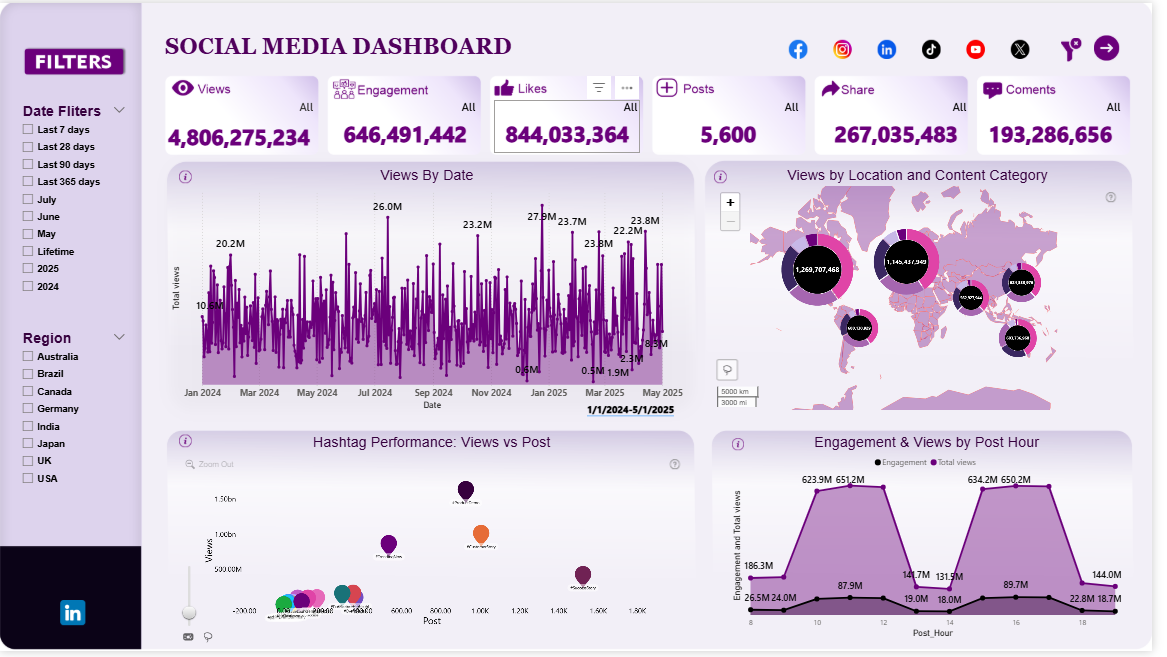

What the dashboard file says about the page in this screenshot:
{"tool":"powerbi","page":{"name":"Page 1","canvas":[1920,1080],"ordinal":0},"visuals":[{"type":"advancedSlicerVisual","fields":{"Values":["Sheet1.logo"]},"box":[1296.4,42.7,442.7,68.2],"z":0},{"type":"areaChart","title":"Views By Date","fields":{"Category":["Sheet1.Post_Date"],"Y":["Dax.Total views"]},"box":[280,273,863,410],"z":1000},{"type":"card","fields":{"Values":["Dax.Total views"]},"box":[270,161.4,257.1,98.6],"z":2000},{"type":"card","fields":{"Values":["Dax.Engagement"]},"box":[552.9,161.4,244.3,88.6],"z":3000},{"type":"card","fields":{"Values":["Dax.Total Likes"]},"box":[822.9,161.4,244.3,88.6],"z":4000},{"type":"card","fields":{"Values":["Dax.Total Post"]},"box":[1091.4,161.4,244.3,88.6],"z":5000},{"type":"card","fields":{"Values":["Dax.Total Shares"]},"box":[1371.4,161.4,244.3,88.6],"z":6000},{"type":"card","fields":{"Values":["Dax.Total Comment"]},"box":[1628.9,161.1,244.4,88.9],"z":7000},{"type":"slicer","fields":{"Values":["Date Filter.Filters"]},"box":[24.3,161.4,195.7,342.9],"z":8000},{"type":"textbox","box":[972.9,661.4,174.3,32.9],"z":9000},{"type":"ZoomChartsDrillDownMapPro6AFEEB10499543F282BD06EF315D5EAA","title":"Views by Location and Content Category","fields":{"value":["Dax.Total views"],"name":["Sheet1.Region"],"latitude":["Sheet1.Latitude"],"longitude":["Sheet1.Longitude"],"category":["Sheet1.Content_Category"],"label":["Min(Sheet1.Content_Category)"]},"box":[1185,273.3,688.3,410],"z":10000},{"type":"lineChart","title":"Engagement & Views by Post Hour","fields":{"Category":["Sheet1.Post_Hour"],"Y":["Dax.Engagement","Dax.Total views"]},"box":[1215,718.8,658.8,345],"z":11000},{"type":"ZoomChartsScatterChartPaidA2C55E4B59078FDD51C4CD1C4D4E6623V9","title":"Hashtag Performance: Views vs Post","fields":{"category":["Sheet1.Main_Hashtag"],"sourceNodes":["Dax.Total Post"],"targetNodes":["Dax.Total views"]},"box":[293.8,718.8,852.5,361.2],"z":12000},{"type":"image","box":[292.9,272.9,31.2,32.9],"z":13000},{"type":"image","box":[292.5,713.8,31.2,33.8],"z":14000},{"type":"image","box":[1215.7,718.6,30,34.3],"z":15000},{"type":"image","box":[1185,273.8,31.2,33.8],"z":16000},{"type":"image","box":[1822.9,50.8,41.7,50],"z":17000},{"type":"slicer","fields":{"Values":["Sheet1.Region"]},"box":[24.3,540,195.7,284.3],"z":18000},{"type":"textbox","box":[270,47.1,617.1,60],"z":19000},{"type":"image","box":[1752.9,52.9,64.3,48.6],"z":20000},{"type":"image","box":[89.1,990,65.5,51.8],"z":21000}]}

Visuals, with their boxes in screenshot pixels (x1, y1, x2, y2), scaled from the page's 1920x1080 canvas onto the 1167x657 screenshot:
advancedSlicerVisual - Sheet1.logo: 788:26:1057:67
"Views By Date" areaChart: 170:166:695:415
card - Dax.Total views: 164:98:320:158
card - Dax.Engagement: 336:98:485:152
card - Dax.Total Likes: 500:98:649:152
card - Dax.Total Post: 663:98:812:152
card - Dax.Total Shares: 834:98:982:152
card - Dax.Total Comment: 990:98:1139:152
slicer - Date Filter.Filters: 15:98:134:307
textbox: 591:402:697:422
"Views by Location and Content Category" ZoomChartsDrillDownMapPro6AFEEB10499543F282BD06EF315D5EAA: 720:166:1139:416
"Engagement & Views by Post Hour" lineChart: 738:437:1139:647
"Hashtag Performance: Views vs Post" ZoomChartsScatterChartPaidA2C55E4B59078FDD51C4CD1C4D4E6623V9: 179:437:697:656
image: 178:166:197:186
image: 178:434:197:455
image: 739:437:757:458
image: 720:167:739:187
image: 1108:31:1133:61
slicer - Sheet1.Region: 15:328:134:501
textbox: 164:29:539:65
image: 1065:32:1105:62
image: 54:602:94:634
